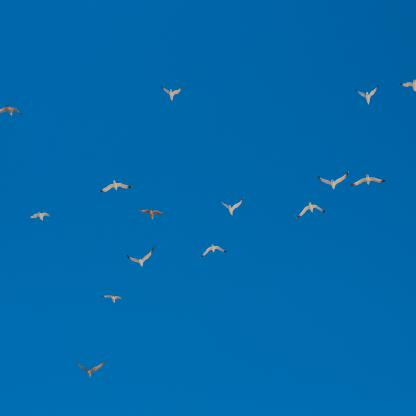bird: (317, 170, 350, 191), (126, 246, 156, 269), (98, 177, 132, 197), (78, 358, 106, 382), (218, 196, 246, 218), (296, 201, 326, 221), (354, 84, 379, 106), (352, 172, 386, 188), (158, 84, 184, 104), (200, 242, 228, 260), (0, 102, 23, 120), (139, 205, 163, 222), (26, 210, 52, 223), (102, 291, 123, 306), (400, 75, 415, 93)
